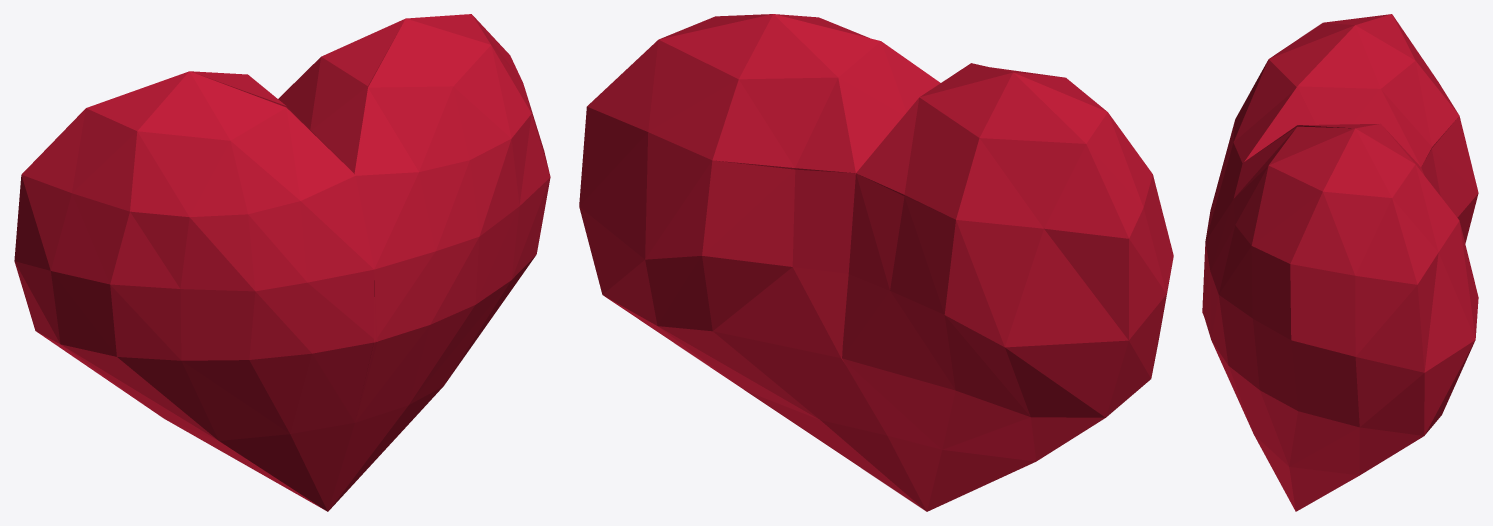
The model's file is heart.obj.
3 renders of one model, left to right at view 1: azimuth 30°, elevation 25°; view 2: azimuth 150°, elevation 25°; view 3: azimuth 270°, elevation 25°, orthographic. The views are drawn at different scales.
Visible parts, largest first — view 1: Heart.2; view 2: Heart.2; view 3: Heart.2.
Part boxes in pixels (x1,y1,x2,y2): Heart.2: (14,14,550,511); Heart.2: (579,14,1173,511); Heart.2: (1202,14,1478,511).
Bounding box in the file's own units: 0.651 × 0.5584 × 0.3212.
